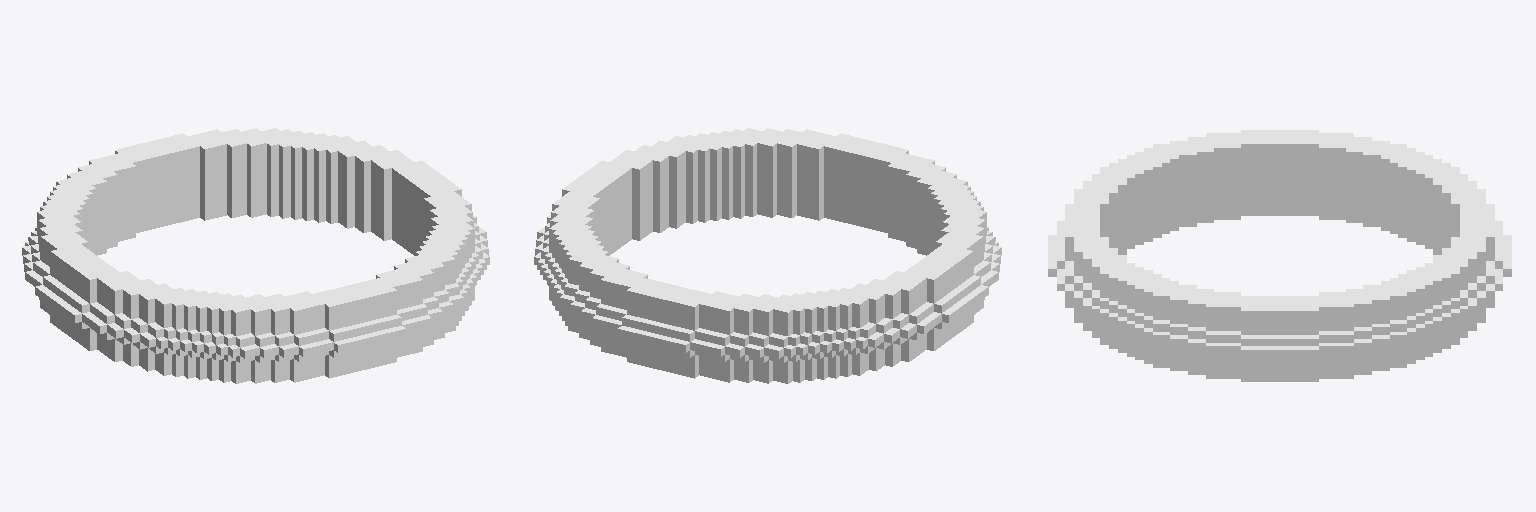
Rendered from Oring.obj.
3 views of the same model, side by side, from view 1: azimuth 30°, elevation 25°; view 2: azimuth 150°, elevation 25°; view 3: azimuth 270°, elevation 25° (orthographic).
Visible parts, largest first — view 1: ObjObject; view 2: ObjObject; view 3: ObjObject.
Part boxes in pixels (x1,y1,x2,y2): ObjObject: (22, 128, 489, 383); ObjObject: (534, 128, 1001, 383); ObjObject: (1048, 130, 1511, 381).
Size of the model in its own units: 5.3 by 0.9 by 5.3.